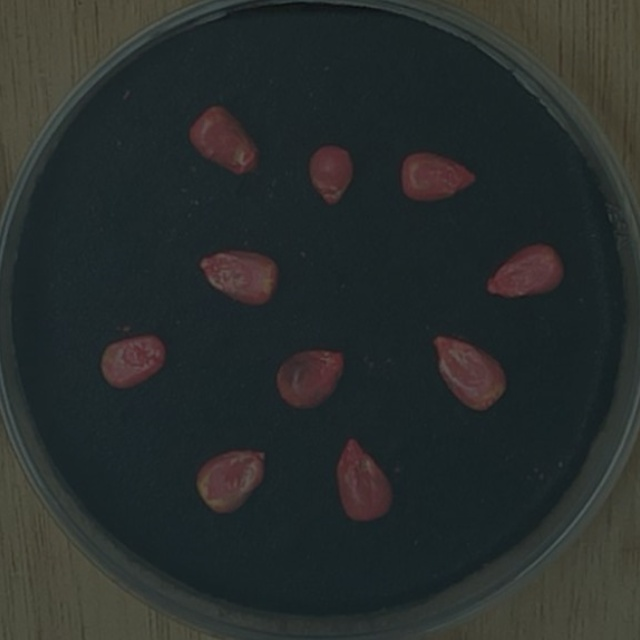Zea mays: (426, 326, 516, 419), (182, 98, 267, 182), (328, 429, 400, 526), (189, 439, 275, 519), (191, 240, 285, 313), (479, 234, 571, 305), (268, 341, 353, 415), (394, 141, 483, 208), (93, 326, 175, 396), (302, 136, 362, 213)
